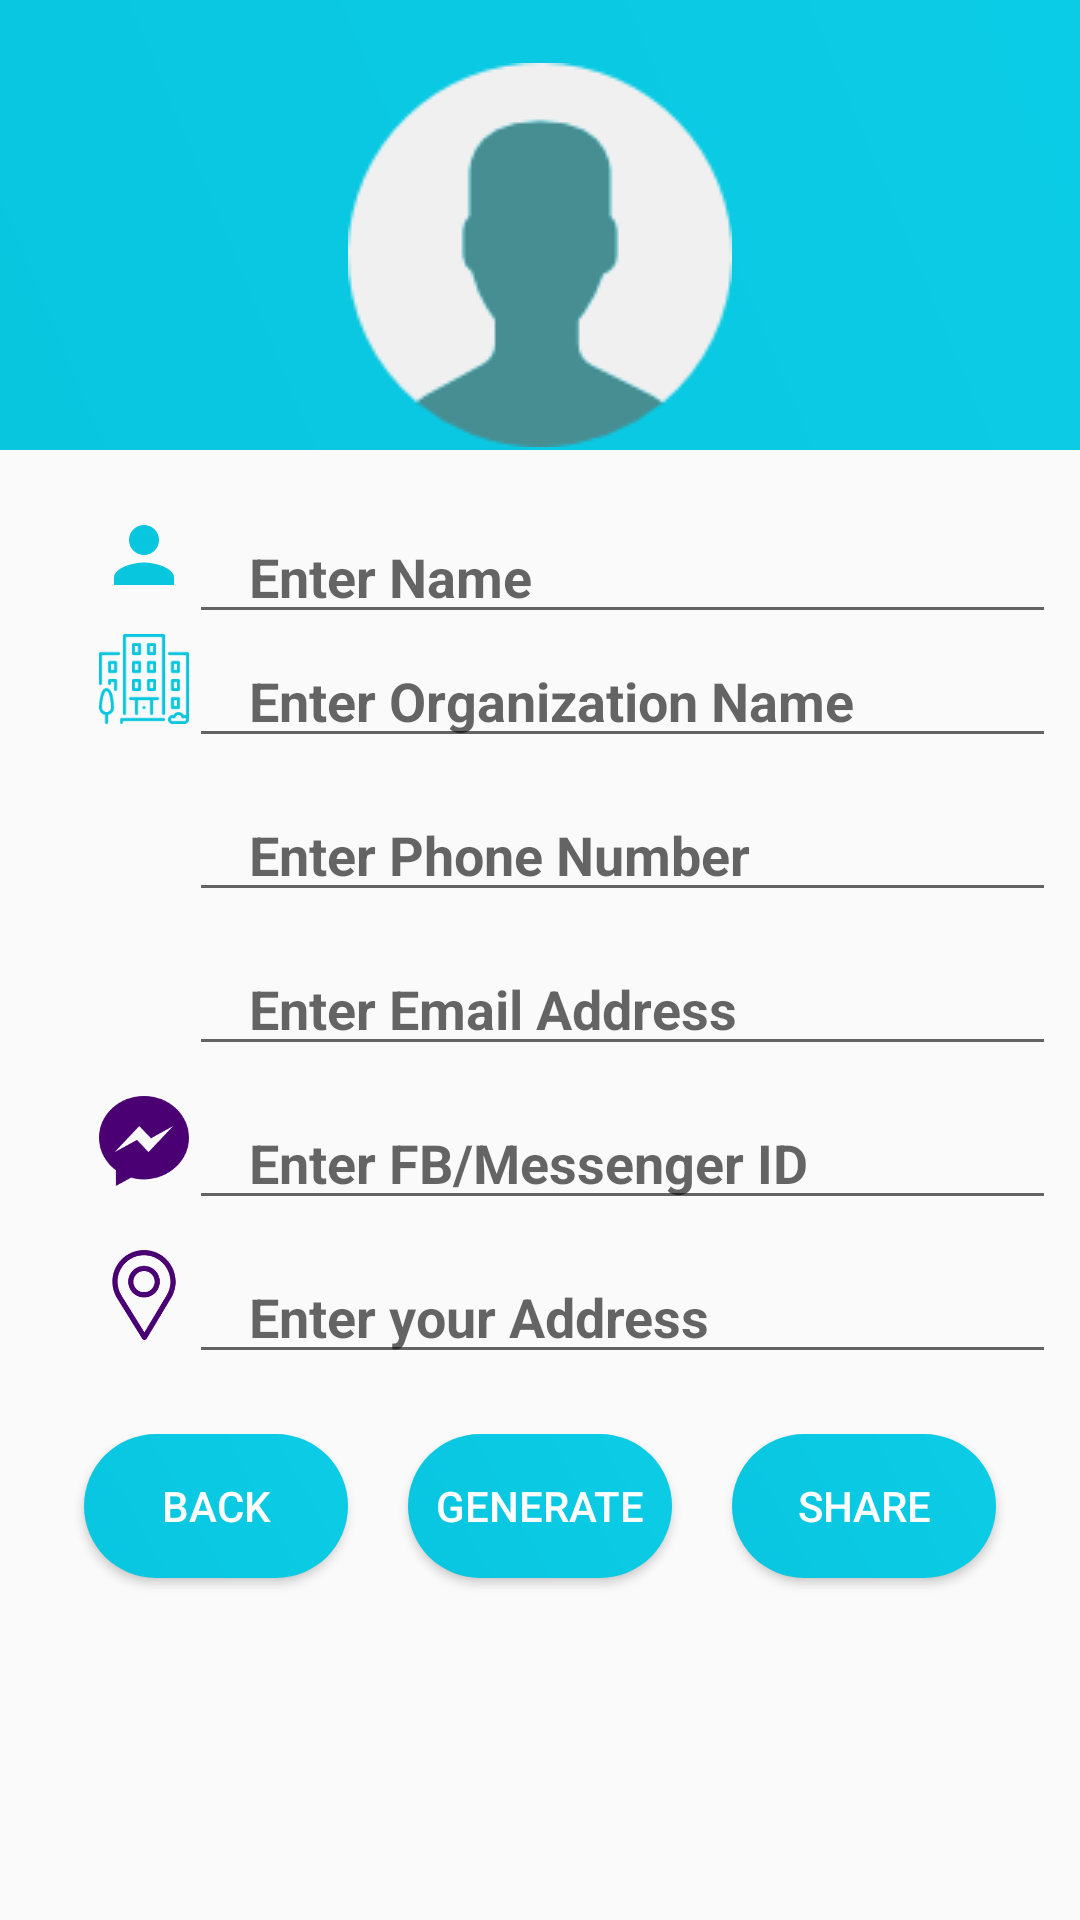

Icon bounding boxes for this 1080x1920 phone screenshot, format bbox=(x1, y1, x2, y2):
location: bbox=(112, 1250, 176, 1340)
